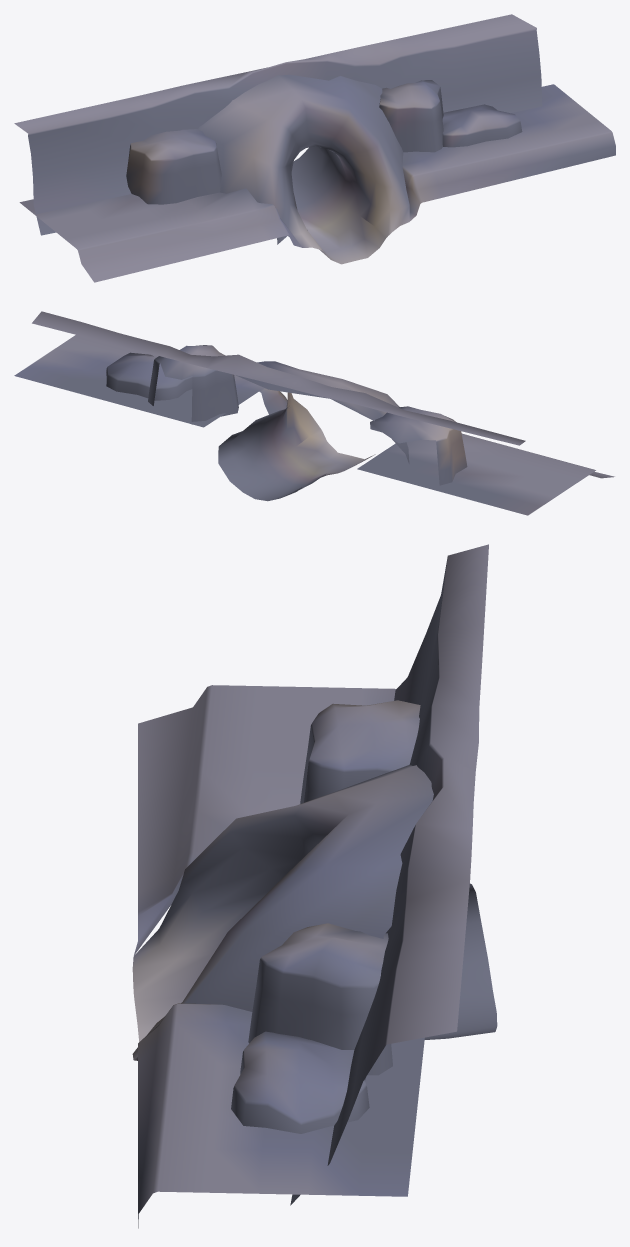
The model's file is Arctic_Luge_Tunnel_Left_15_End_A.glb.
3 views of the same model, one above another, from view 1: azimuth 30°, elevation 25°; view 2: azimuth 150°, elevation 25°; view 3: azimuth 270°, elevation 25° (orthographic). The views are drawn at different scales.
Visible parts, largest first — view 1: Arctic_Luge_Tunnel_Left_15_End_A; view 2: Arctic_Luge_Tunnel_Left_15_End_A; view 3: Arctic_Luge_Tunnel_Left_15_End_A.
Part boxes in pixels (left/top/right/bottom): Arctic_Luge_Tunnel_Left_15_End_A: left=14, top=14, right=615, bottom=282; Arctic_Luge_Tunnel_Left_15_End_A: left=14, top=311, right=614, bottom=515; Arctic_Luge_Tunnel_Left_15_End_A: left=132, top=544, right=497, bottom=1228.
Size of what is drawn, in the model's own units: 26.24 by 6.74 by 7.86.
